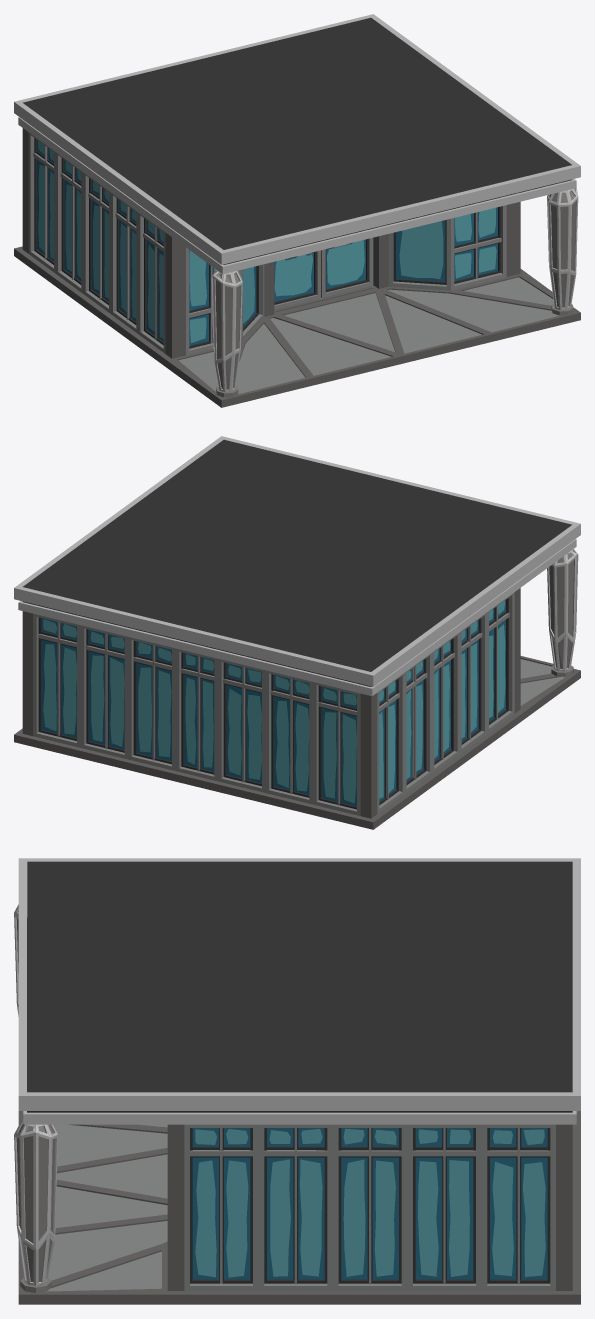
Rendered from Building_C_01.FBX.
3 renders of one model, top to bottom at view 1: azimuth 30°, elevation 25°; view 2: azimuth 150°, elevation 25°; view 3: azimuth 270°, elevation 25°, orthographic. The views are drawn at different scales.
Visible parts, largest first — view 1: Building_C_01; view 2: Building_C_01; view 3: Building_C_01.
Part boxes in pixels (box(x1,y1,x2,y2)): Building_C_01: box(14, 14, 580, 407); Building_C_01: box(14, 436, 580, 829); Building_C_01: box(14, 858, 580, 1304).
Bounding box in the file's own units: 10.12 × 4.1 × 10.08.
